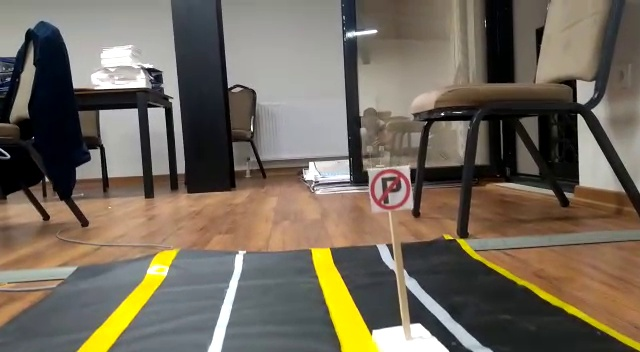park_yapilmaz: (364, 169, 412, 209)
